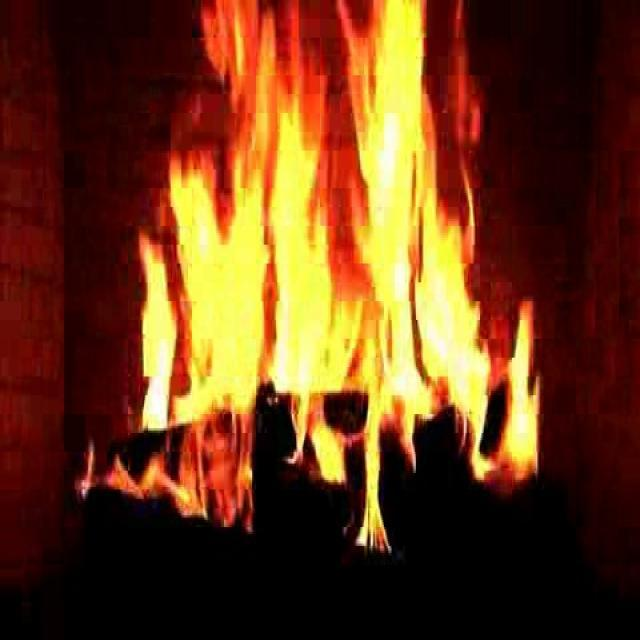Fire: (120, 0, 556, 553)
